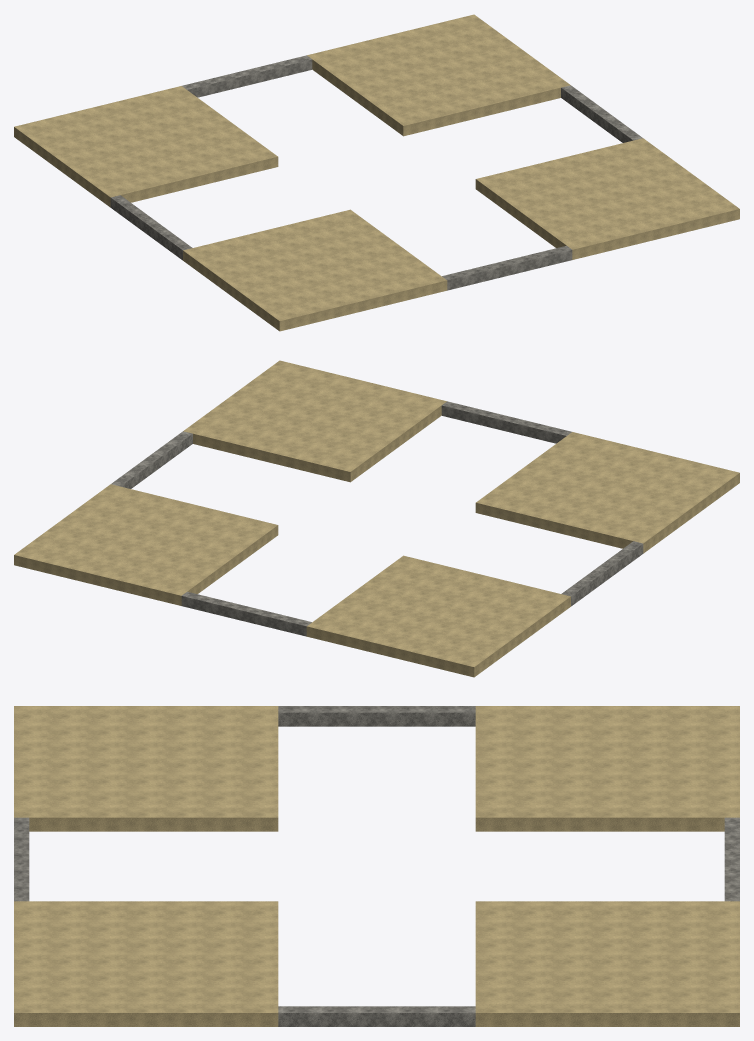
Rendered from courtyard_ground.fbx.
3 views of the same model, one above another, from view 1: azimuth 30°, elevation 25°; view 2: azimuth 150°, elevation 25°; view 3: azimuth 270°, elevation 25° (orthographic). The views are drawn at different scales.
Visible parts, largest first — view 1: courtyard_ground; view 2: courtyard_ground; view 3: courtyard_ground.
Part boxes in pixels (bbox=[...]): courtyard_ground: bbox=[14, 14, 739, 331]; courtyard_ground: bbox=[14, 360, 739, 677]; courtyard_ground: bbox=[14, 706, 739, 1026].
Size of the model in its own units: 1874 by 40 by 1874.
